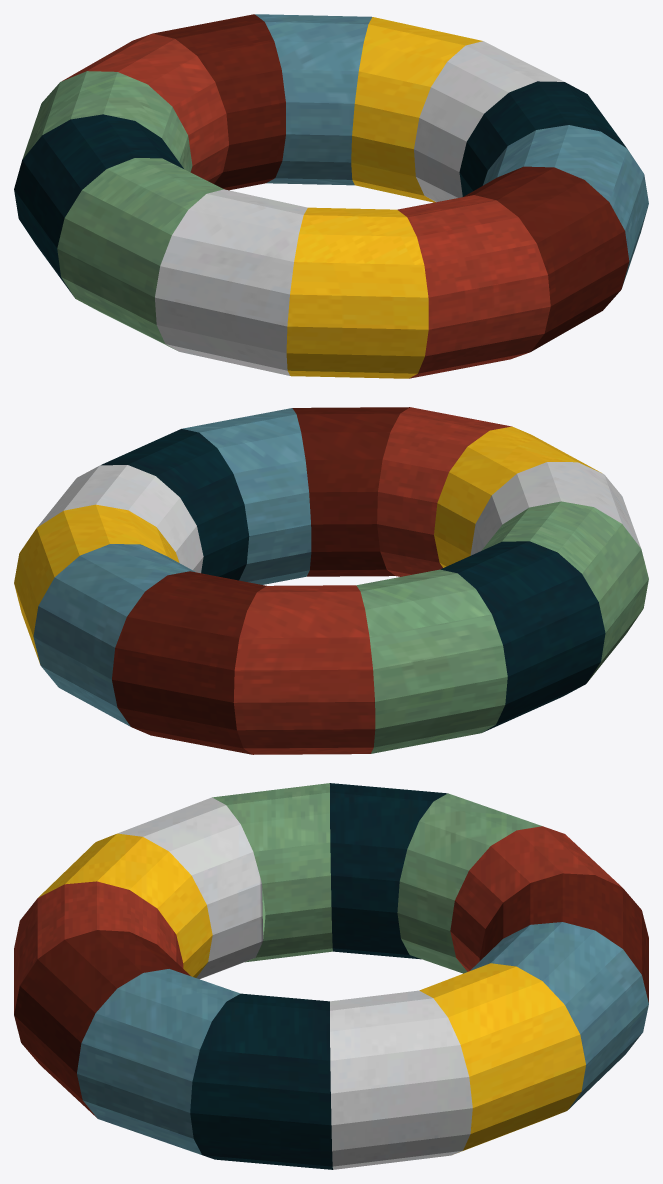
Rendered from BLOCKYGON_BEACH BALLOON.fbx.
3 renders of one model, top to bottom at view 1: azimuth 30°, elevation 25°; view 2: azimuth 150°, elevation 25°; view 3: azimuth 270°, elevation 25°, orthographic.
Parts seen in each view (by area): view 1: BLOCKYGON_BEACH_BALLOON; view 2: BLOCKYGON_BEACH_BALLOON; view 3: BLOCKYGON_BEACH_BALLOON.
Part boxes in pixels (box(x1,y1,x2,y2)): BLOCKYGON_BEACH_BALLOON: box(14, 14, 648, 378); BLOCKYGON_BEACH_BALLOON: box(14, 407, 648, 754); BLOCKYGON_BEACH_BALLOON: box(14, 783, 648, 1169).
Bounding box in the file's own units: 74.9 × 23 × 74.99.
